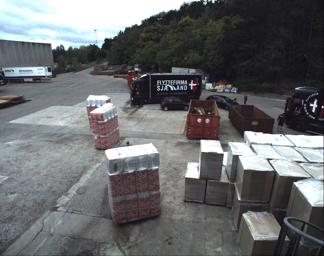rockwool_batts: (103, 141, 159, 224), (91, 103, 118, 148), (85, 94, 109, 116)
